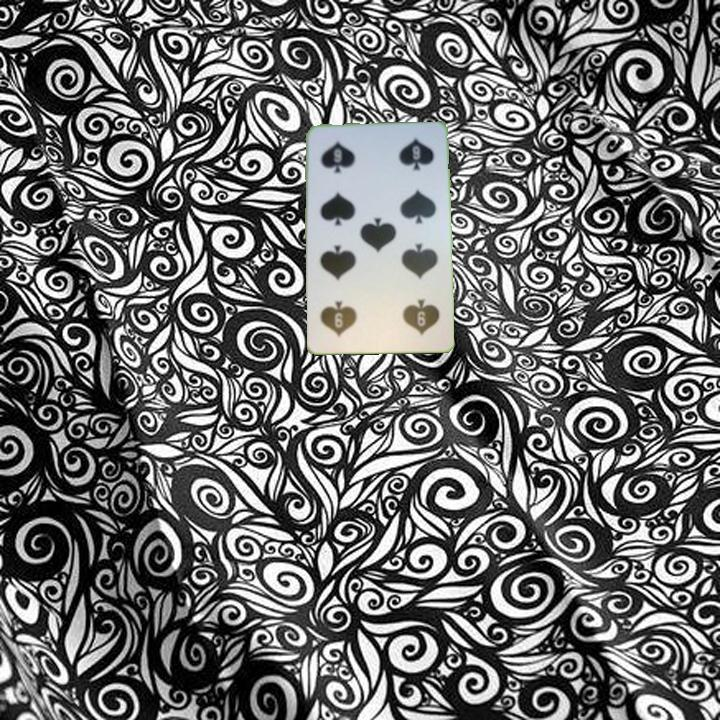s_9.png: (313, 132, 381, 191), (376, 284, 444, 343)
